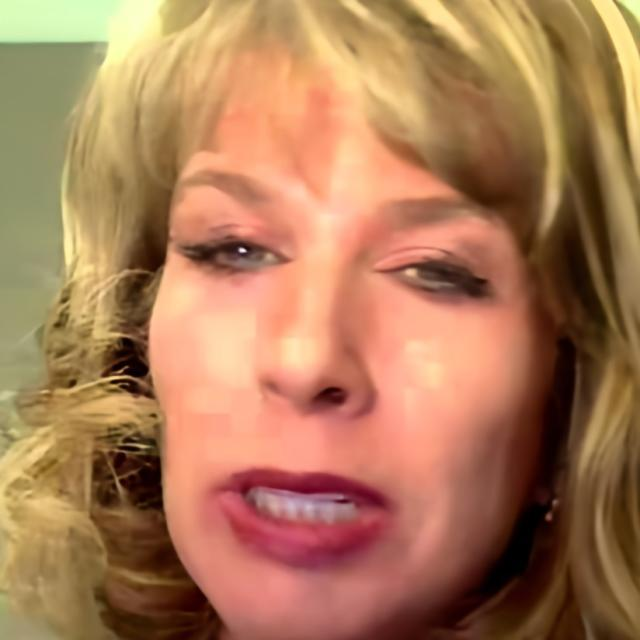disgust: (146, 43, 556, 640)
